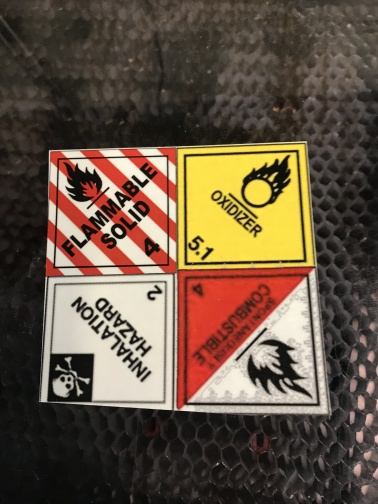FlammableSolid: (47, 149, 177, 276)
InhalationHazard: (38, 277, 174, 411)
Oxidizer: (178, 143, 319, 267)
SpontaneouslyCombustible: (180, 268, 331, 416)
